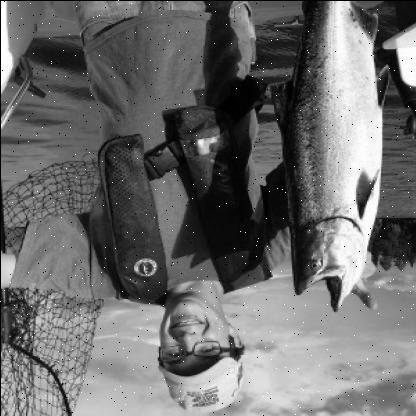fish: (270, 0, 392, 312)
